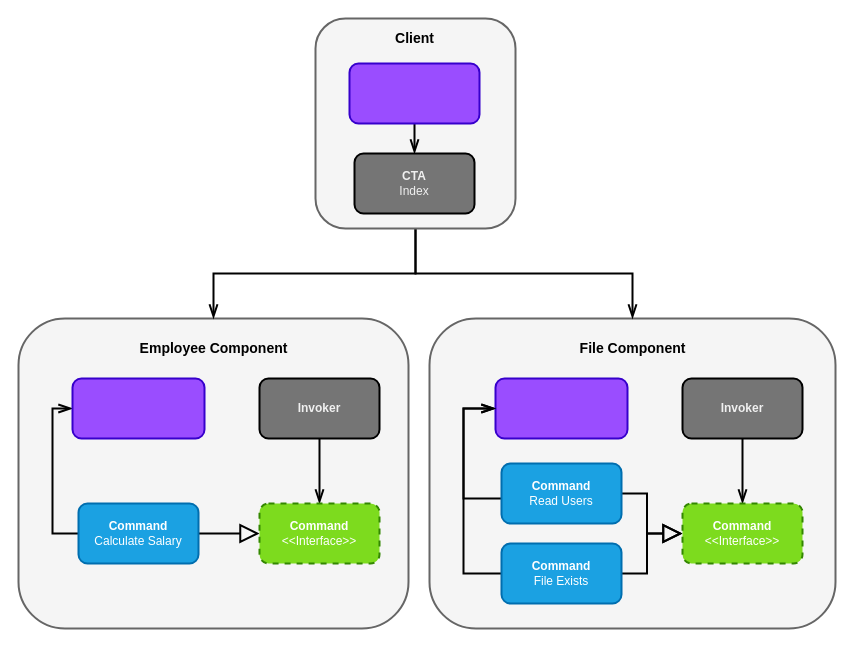
Some shapes in this 853 by 646 pixel diagram are drawn without their labels. Each missing label, with the centre of its shape:
"Receiver Employee" goes at point 138,408.
"Receiver File" goes at point 561,408.
"UI Main" goes at point 414,93.
